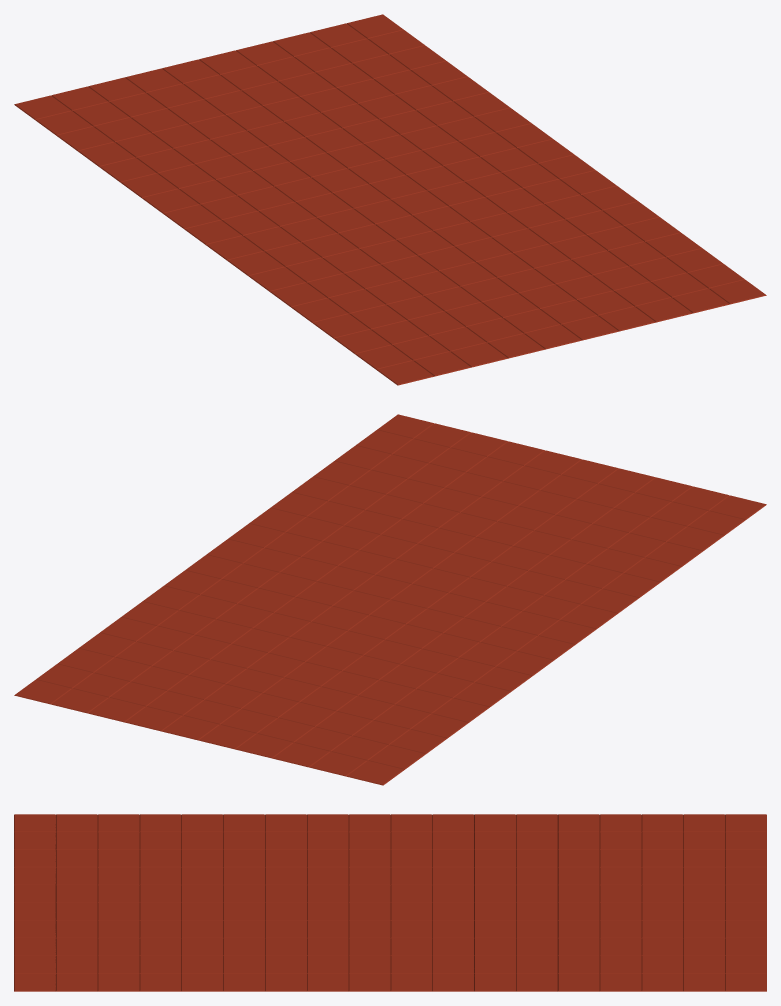
File: playing field lvl3.fbx
3 renders of one model, top to bottom at view 1: azimuth 30°, elevation 25°; view 2: azimuth 150°, elevation 25°; view 3: azimuth 270°, elevation 25°, orthographic.
Parts seen in each view (by area): view 1: Plane.002, Plane.048, Plane.049, Plane.004, Plane.039, Plane.047, Plane.050, Plane.051, Plane.042, Plane.046, Plane.052, Plane.069 (+168 smaller); view 2: Plane.213, Plane.219, Plane.220, Plane.214, Plane.215, Plane.218, Plane.221, Plane.222, Plane.216, Plane.217, Plane.062, Plane.103 (+168 smaller); view 3: Plane.061, Plane.092, Plane.182, Plane.212, Plane.054, Plane.057, Plane.064, Plane.068, Plane.071, Plane.072, Plane.075, Plane.078 (+168 smaller).
Boxes of the visible parts, x1=… form: Plane.002: x1=377, y1=361, x2=433, y2=385; Plane.048: x1=598, y1=306, x2=655, y2=331; Plane.049: x1=635, y1=297, x2=692, y2=322; Plane.004: x1=414, y1=352, x2=470, y2=376; Plane.039: x1=451, y1=342, x2=507, y2=367; Plane.047: x1=561, y1=315, x2=618, y2=340; Plane.050: x1=672, y1=288, x2=729, y2=313; Plane.051: x1=709, y1=279, x2=766, y2=304; Plane.042: x1=488, y1=333, x2=544, y2=358; Plane.046: x1=524, y1=324, x2=581, y2=349; Plane.052: x1=355, y1=345, x2=412, y2=369; Plane.069: x1=555, y1=275, x2=612, y2=299; Plane.213: x1=347, y1=761, x2=403, y2=785; Plane.219: x1=125, y1=706, x2=182, y2=731; Plane.220: x1=88, y1=697, x2=145, y2=722; Plane.214: x1=310, y1=752, x2=366, y2=776; Plane.215: x1=273, y1=742, x2=329, y2=767; Plane.218: x1=162, y1=715, x2=219, y2=740; Plane.221: x1=51, y1=688, x2=108, y2=713; Plane.222: x1=14, y1=679, x2=71, y2=704; Plane.216: x1=236, y1=733, x2=292, y2=758; Plane.217: x1=199, y1=724, x2=256, y2=749; Plane.062: x1=667, y1=526, x2=723, y2=551; Plane.103: x1=581, y1=589, x2=638, y2=613; Plane.061: x1=55, y1=973, x2=97, y2=991; Plane.092: x1=181, y1=973, x2=223, y2=991; Plane.182: x1=557, y1=973, x2=599, y2=991; Plane.212: x1=683, y1=973, x2=725, y2=991; Plane.054: x1=55, y1=849, x2=97, y2=867; Plane.057: x1=55, y1=902, x2=97, y2=920; Plane.064: x1=97, y1=849, x2=139, y2=867; Plane.068: x1=97, y1=902, x2=139, y2=920; Plane.071: x1=97, y1=955, x2=139, y2=973; Plane.072: x1=97, y1=973, x2=139, y2=991; Plane.075: x1=139, y1=849, x2=181, y2=867; Plane.078: x1=139, y1=902, x2=181, y2=920.
Bounding box in the file's own units: 2000 × 3.8 × 3600.
